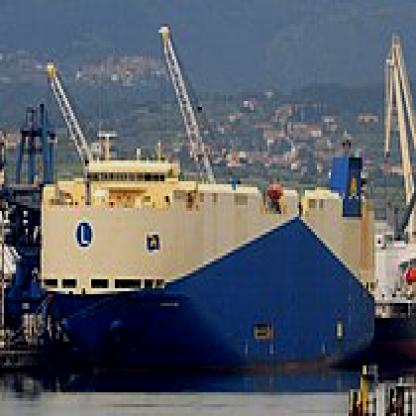Tanker: (34, 161, 382, 389)
